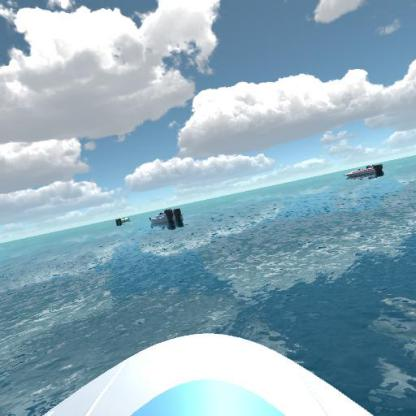usv0: (112, 211, 132, 225)
usv1: (150, 203, 186, 228)
usv3: (344, 161, 386, 184)
